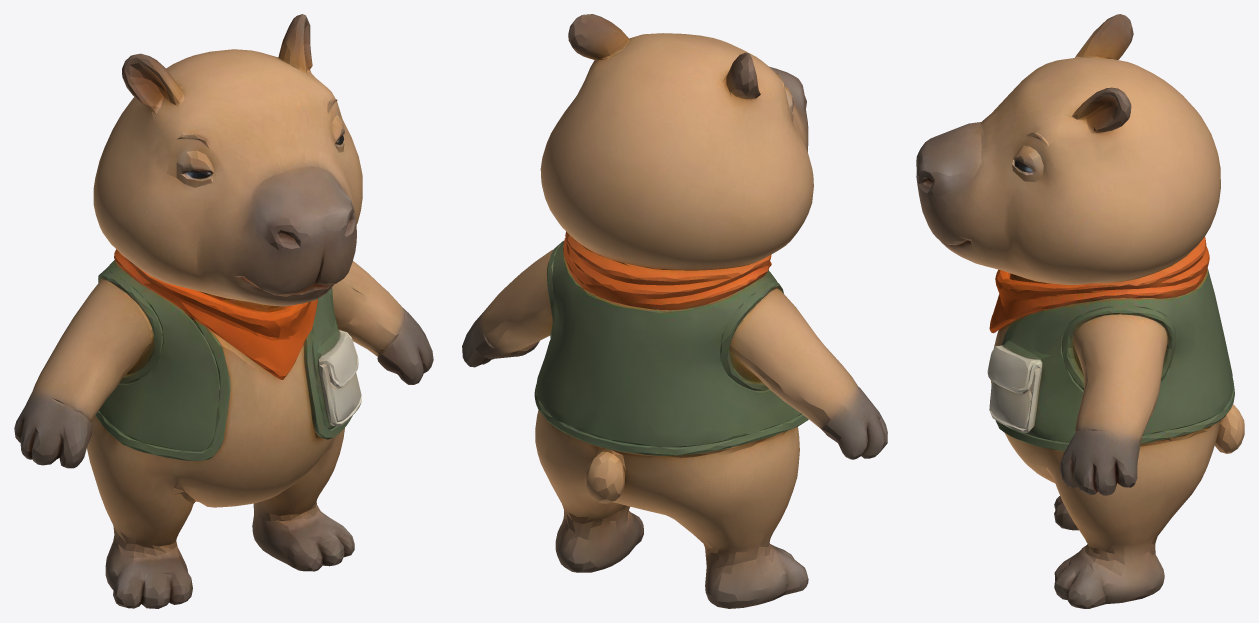
The model's file is pumpkin-capybara-driver-candidate.glb.
3 views of the same model, side by side, from view 1: azimuth 30°, elevation 25°; view 2: azimuth 150°, elevation 25°; view 3: azimuth 270°, elevation 25° (orthographic). The views are drawn at different scales.
Visible parts, largest first — view 1: pumpkin-capybara_driver_candidate; view 2: pumpkin-capybara_driver_candidate; view 3: pumpkin-capybara_driver_candidate.
Boxes of the visible parts, x1=… form: pumpkin-capybara_driver_candidate: x1=14, y1=14, x2=433, y2=608; pumpkin-capybara_driver_candidate: x1=462, y1=14, x2=887, y2=608; pumpkin-capybara_driver_candidate: x1=916, y1=14, x2=1244, y2=608.
Bounding box in the file's own units: 1.8 × 2.25 × 1.32.
Materials: 1 (1 with a texture image).
